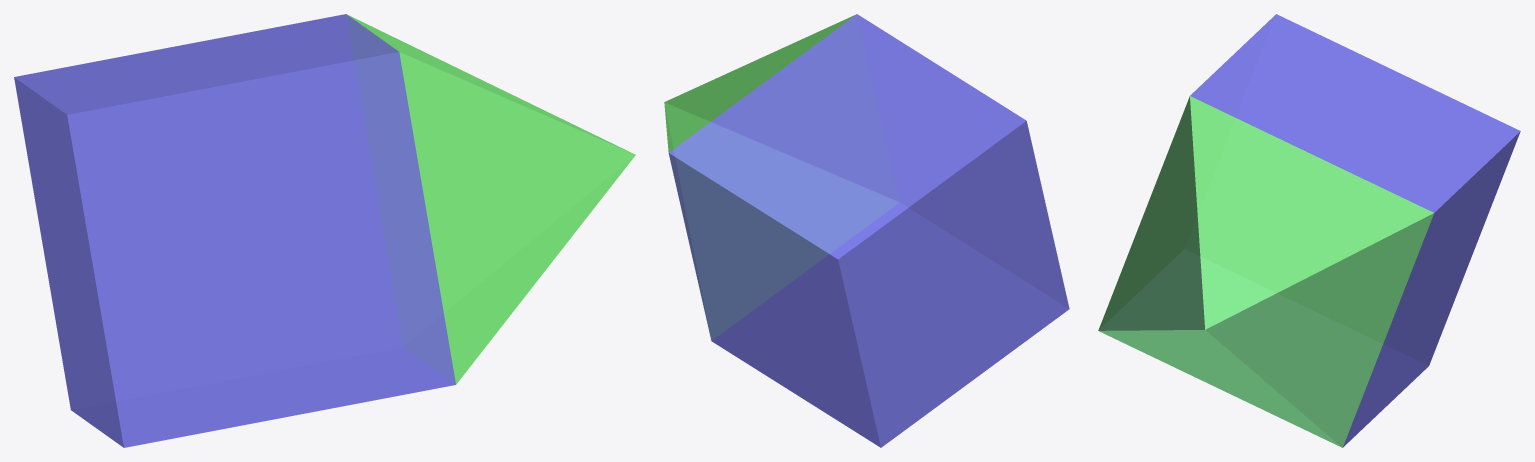
Rendered from j8_elongated_square_pyramid.obj.
3 renders of one model, left to right at view 1: azimuth 30°, elevation 25°; view 2: azimuth 150°, elevation 25°; view 3: azimuth 270°, elevation 25°, orthographic. The views are drawn at different scales.
Size of the model in its own units: 1.97 by 1.52 by 1.71.
